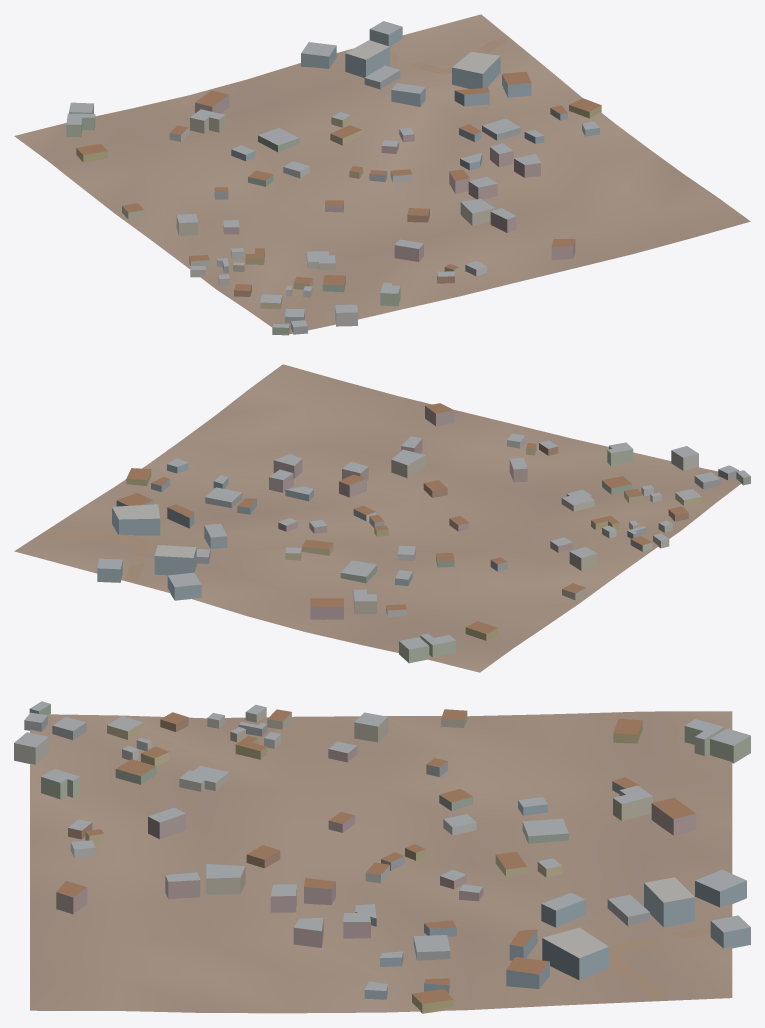
The picture shows the model from 3 angles, top to bottom: view 1: azimuth 30°, elevation 25°; view 2: azimuth 150°, elevation 25°; view 3: azimuth 270°, elevation 25°; orthographic projection. The views are drawn at different scales.
Visible parts, largest first — view 1: Lo; view 2: Lo; view 3: Lo.
Part boxes in pixels (<box>): Lo: <box>14,14,750,335</box>; Lo: <box>14,364,750,672</box>; Lo: <box>14,701,750,1013</box>.
Size of the model in its own units: 260 by 15.59 by 269.
